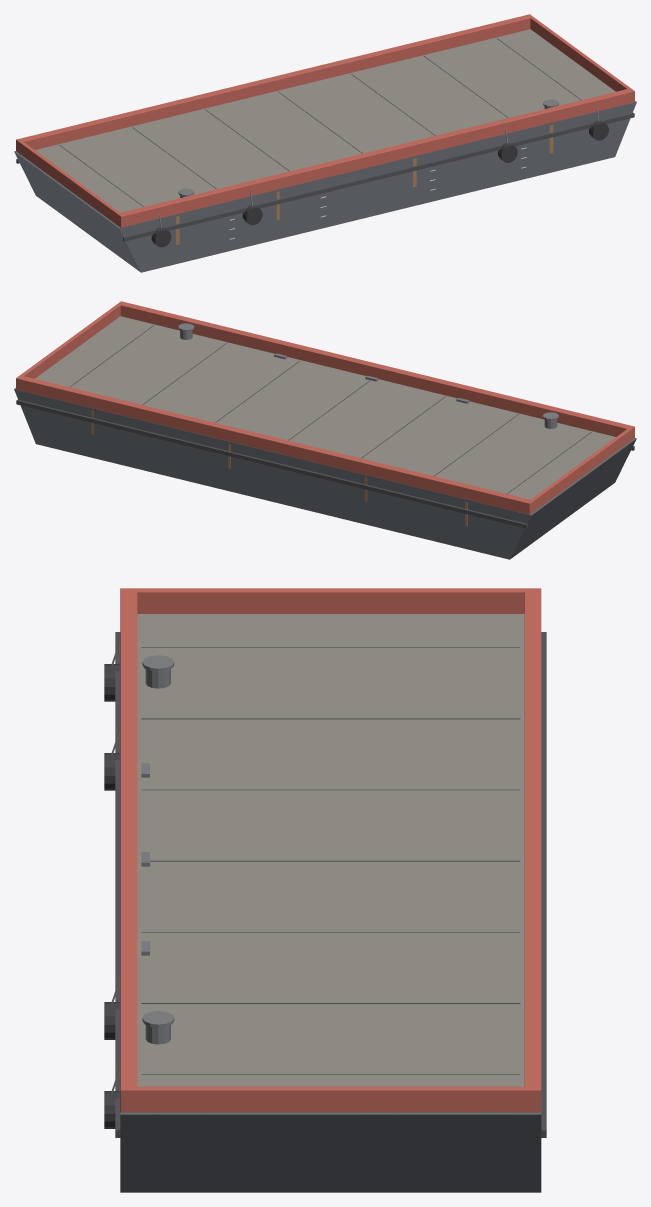
The model's file is wf_barge.glb.
3 renders of one model, top to bottom at view 1: azimuth 30°, elevation 25°; view 2: azimuth 150°, elevation 25°; view 3: azimuth 270°, elevation 25°, orthographic. The views are drawn at different scales.
Visible parts, largest first — view 1: wb_barge_mesh; view 2: wb_barge_mesh; view 3: wb_barge_mesh.
Part boxes in pixels (x1,y1,x2,y2): wb_barge_mesh: [14, 14, 636, 272]; wb_barge_mesh: [14, 301, 636, 559]; wb_barge_mesh: [104, 588, 546, 1192].
Bounding box in the file's own units: 28.4 × 3.2 × 10.5.
